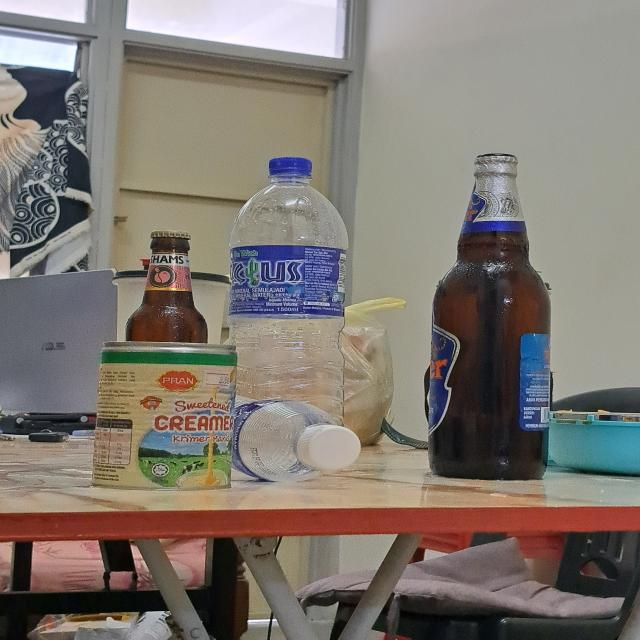can: (95, 340, 232, 492)
glass bottle: (429, 151, 551, 479), (128, 223, 211, 343)
plastic bottle: (228, 154, 349, 428), (238, 395, 364, 483)
plastic bottle cap: (298, 420, 360, 469), (268, 158, 316, 184)
